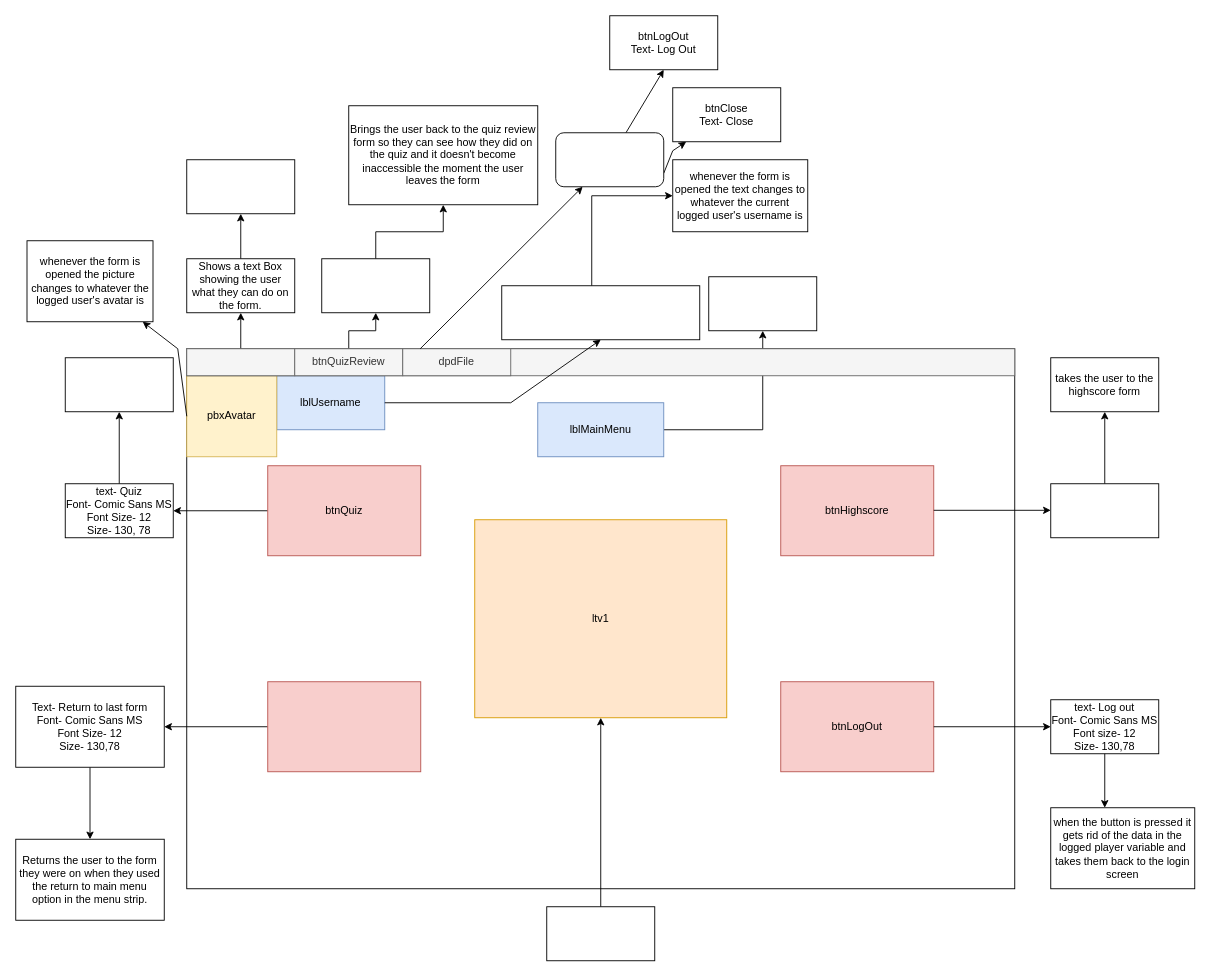
The diagram is 1211 pixels wide and 977 high, and some of its shapes have lost their labels. Here are the shapes that lost their labels. From the top down, the centre of each, then its label:
At (609,159): "Text- File contains btnClose and BtnLogOut".
At (240,186): "Text- Help Font- Comic Sans MS Font Size- 12".
At (375,285): "Text - Quiz Review Font- Comic Sans MS Font Size - 12".
At (762,303): "Text- Main Menu Font- Comic Sans MS Font Size- 12 Size- 160, 40".
At (600,312): "Text-label1 Font- Comic Sans MS Font Size- 12 Size- 35,13".
At (240,362): "btnHelp".
At (118,384): "Takes the user to the first question of the quiz".
At (1104,510): "text- HighScore Font- Comic Sans MS Font size- 12 Size- 130,78".
At (344,726): "btnReturn".
At (600,933): "Displays the top 10 scores from the players file".
